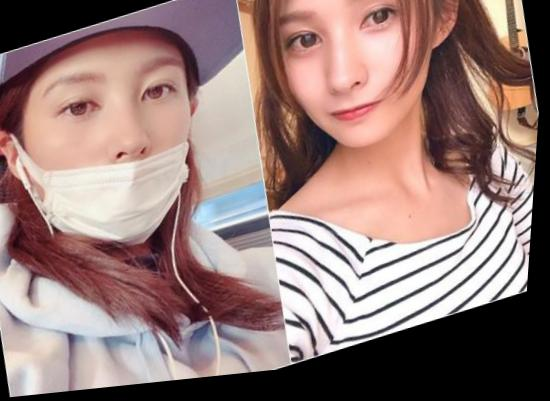NONE: (263, 1, 456, 183)
WRONG: (1, 18, 225, 285)
